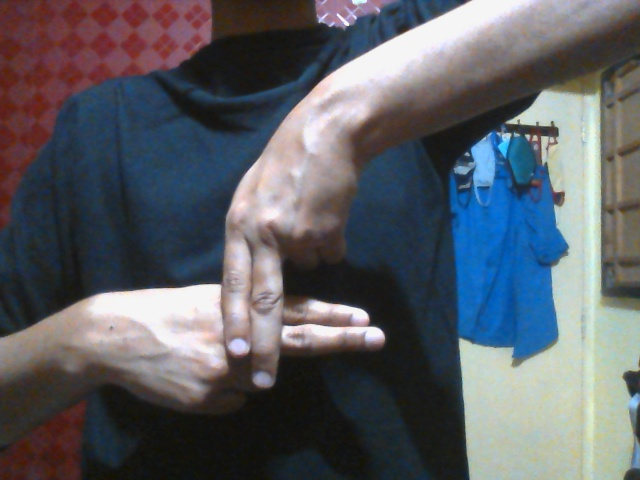F: (107, 121, 387, 417)
